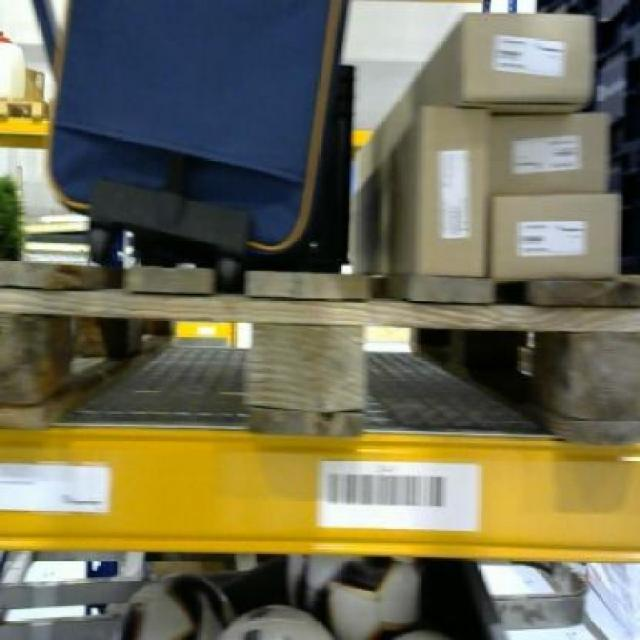box: (358, 108, 489, 277), (443, 12, 605, 110), (488, 198, 622, 279), (488, 109, 608, 194)
